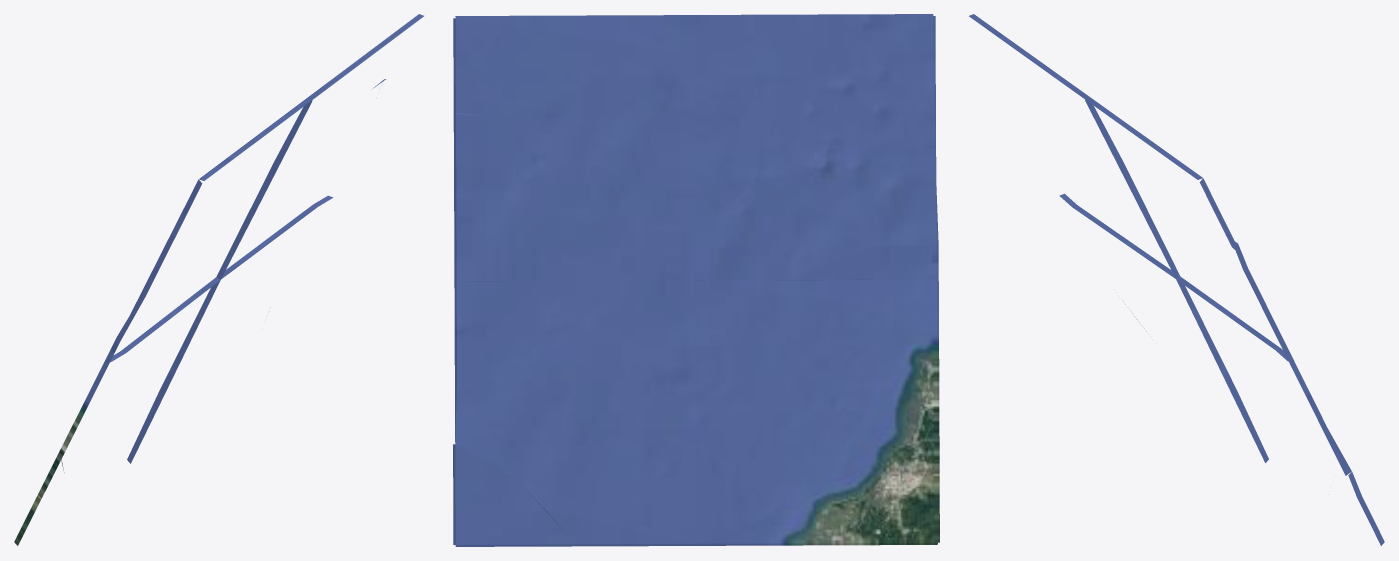
3 views of the same model, side by side, from view 1: azimuth 30°, elevation 25°; view 2: azimuth 150°, elevation 25°; view 3: azimuth 270°, elevation 25° (orthographic). The views are drawn at different scales.
Size of the model in its own units: 79044 by 71608 by 65606.
Materials: 1 (1 with a texture image).
